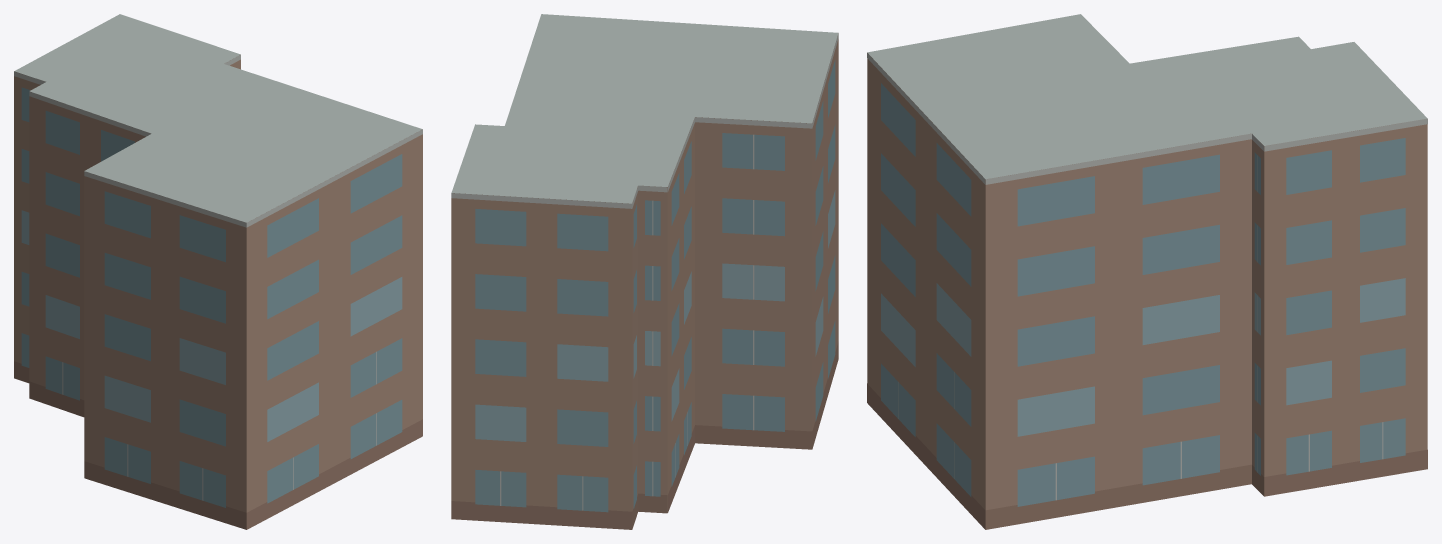
Rendered from survey-upis-32757387.glb.
3 views of the same model, side by side, from view 1: azimuth 30°, elevation 25°; view 2: azimuth 150°, elevation 25°; view 3: azimuth 270°, elevation 25° (orthographic). The views are drawn at different scales.
Visible parts, largest first — view 1: survey-upis-32757387.tmp; view 2: survey-upis-32757387.tmp; view 3: survey-upis-32757387.tmp.
Boxes of the visible parts, <box> form: survey-upis-32757387.tmp: <box>14,14,422,529</box>; survey-upis-32757387.tmp: <box>451,14,838,529</box>; survey-upis-32757387.tmp: <box>867,14,1427,529</box>.
Size of the model in its own units: 15.44 by 15.25 by 22.11.
